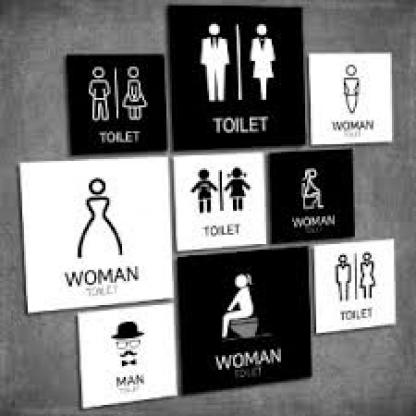toilet: (197, 14, 278, 106), (86, 64, 152, 123), (187, 162, 254, 217), (329, 249, 385, 303)
